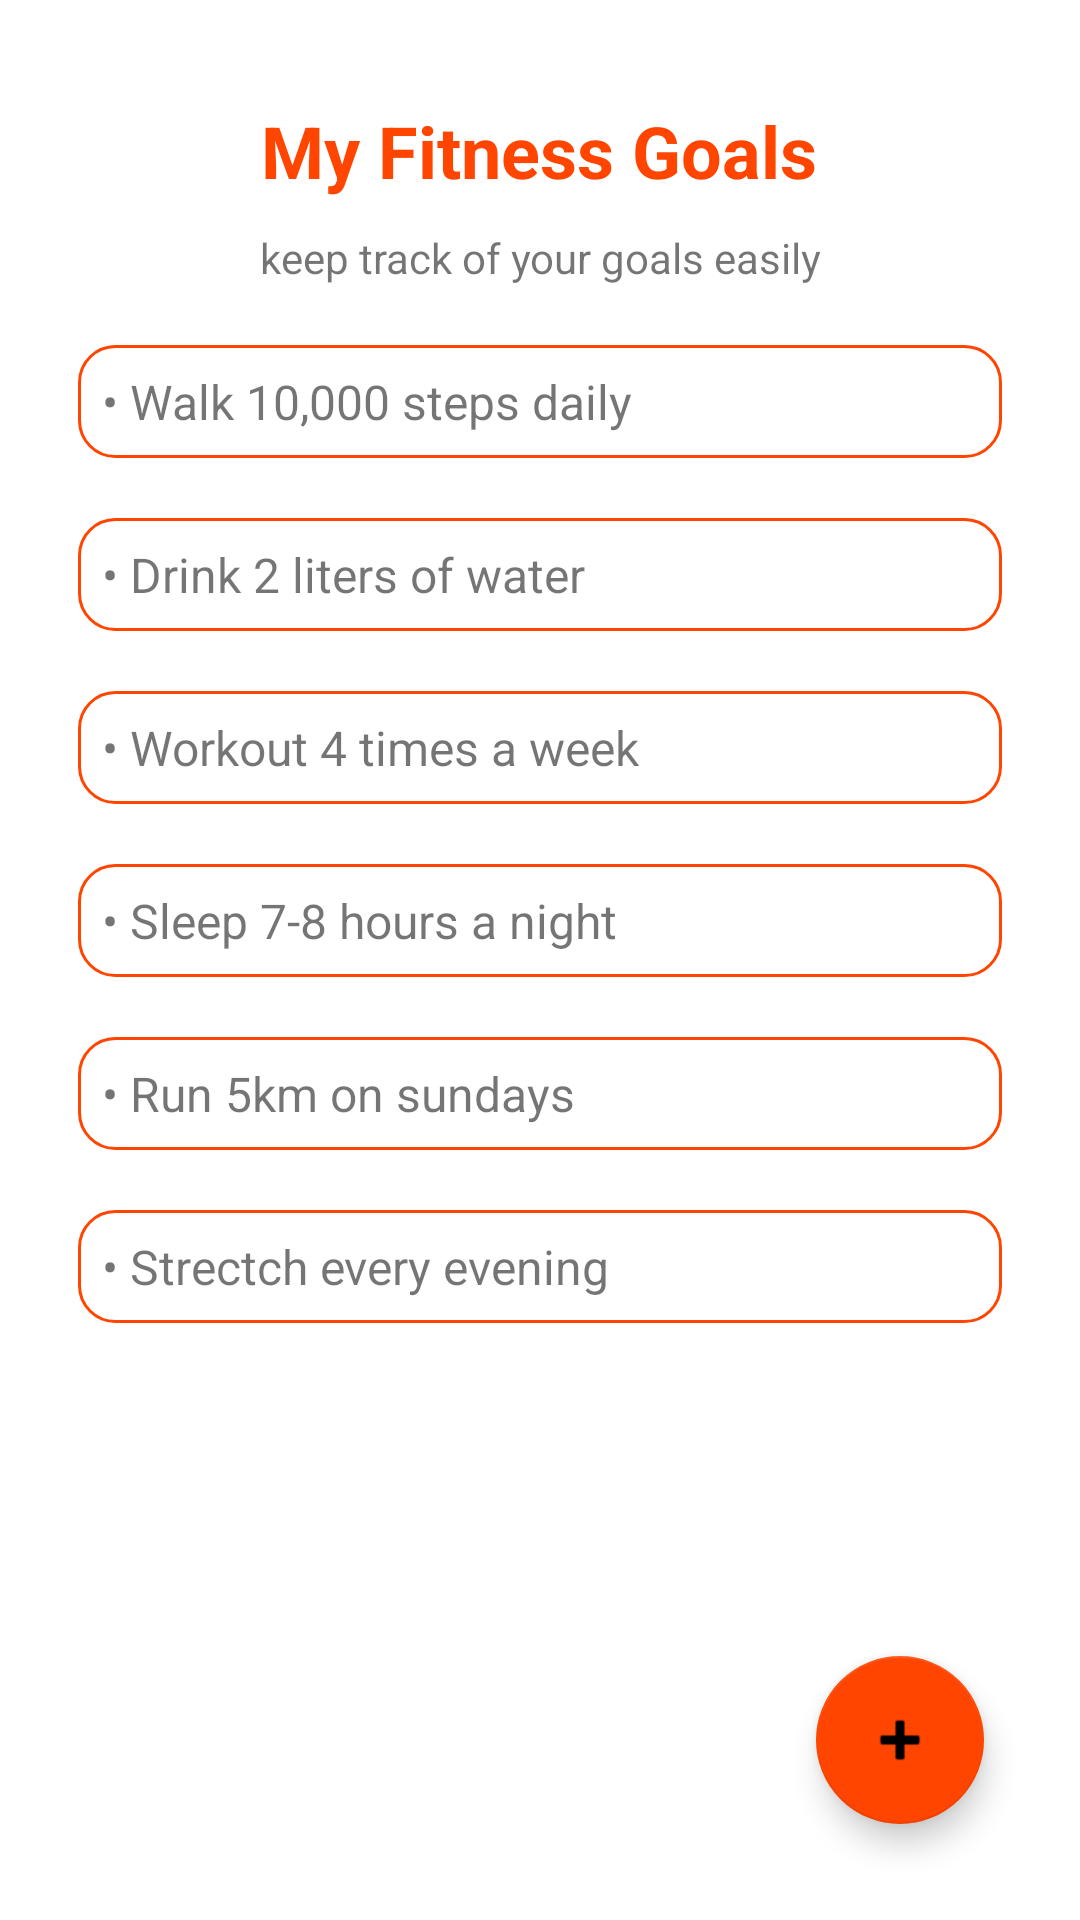

Named icons in this screenshot (1080 × 1920) and their bounding boxes, (x1, y1, x2, y2):
Add Goal: (816, 1656, 984, 1824)
